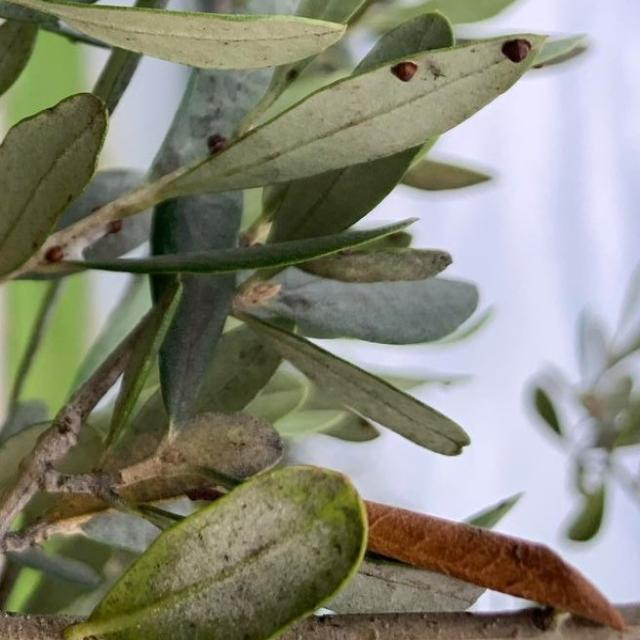Black Scale: (501, 38, 531, 62), (391, 61, 418, 81), (44, 244, 67, 264), (207, 132, 226, 155), (104, 220, 123, 236)
